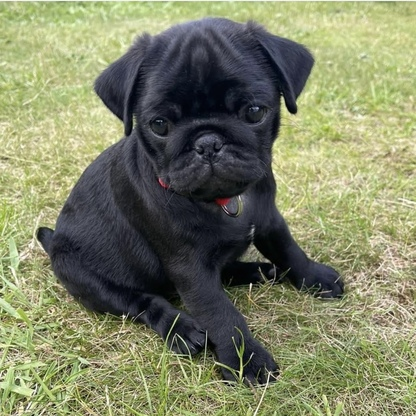Pug: (31, 12, 351, 388)
